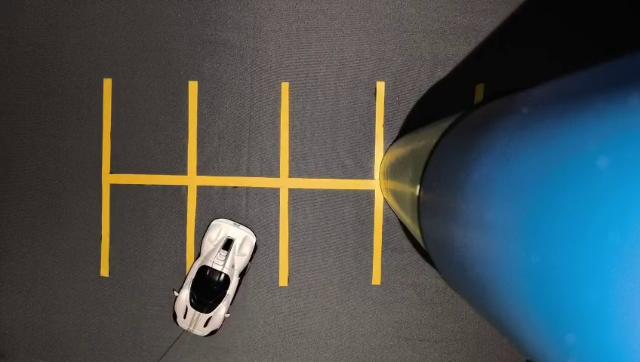toy_car: (154, 199, 286, 360)
